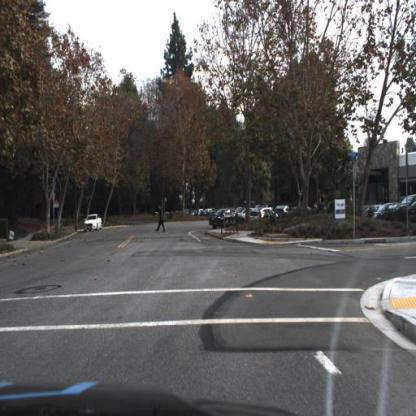car: (376, 195, 416, 224), (208, 207, 245, 227), (252, 206, 281, 228), (84, 214, 102, 236), (87, 216, 101, 232)
pedestrian: (156, 201, 167, 235)
